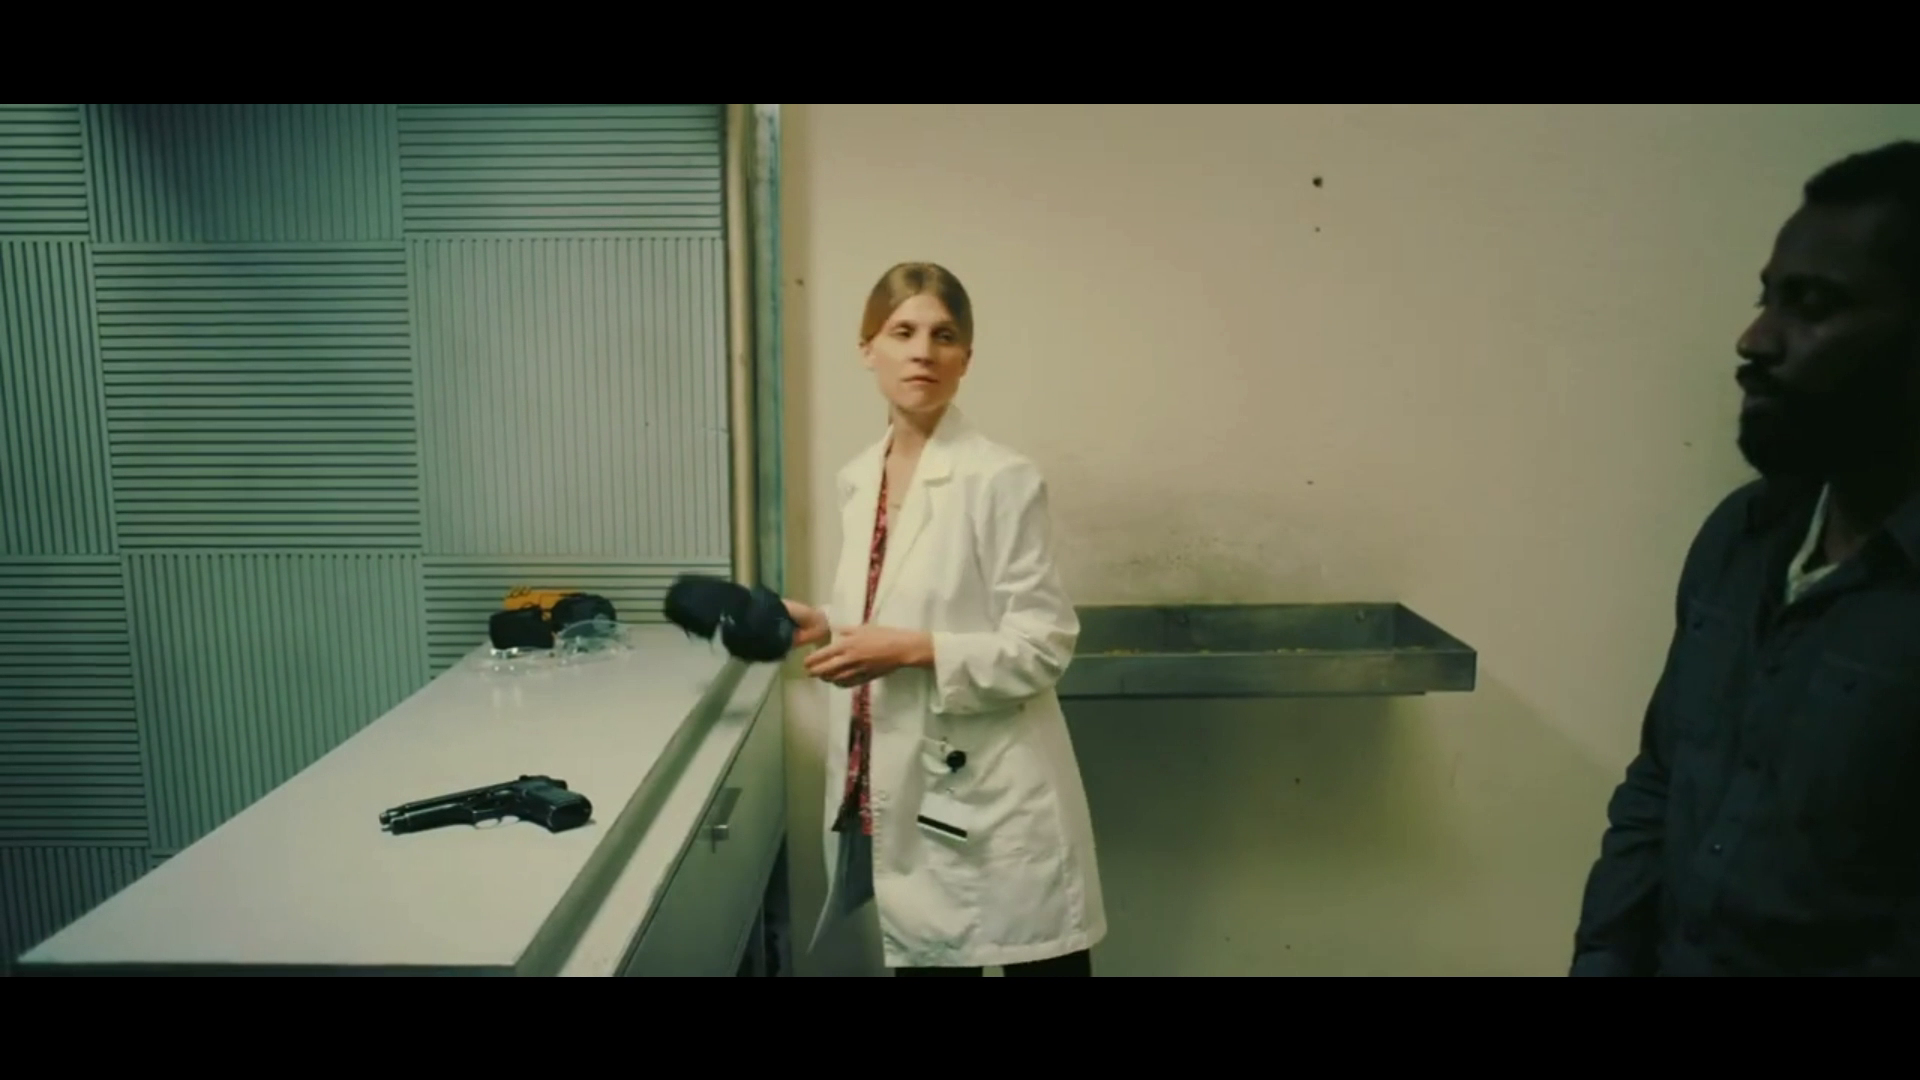SIG P226: (382, 770, 593, 837)
